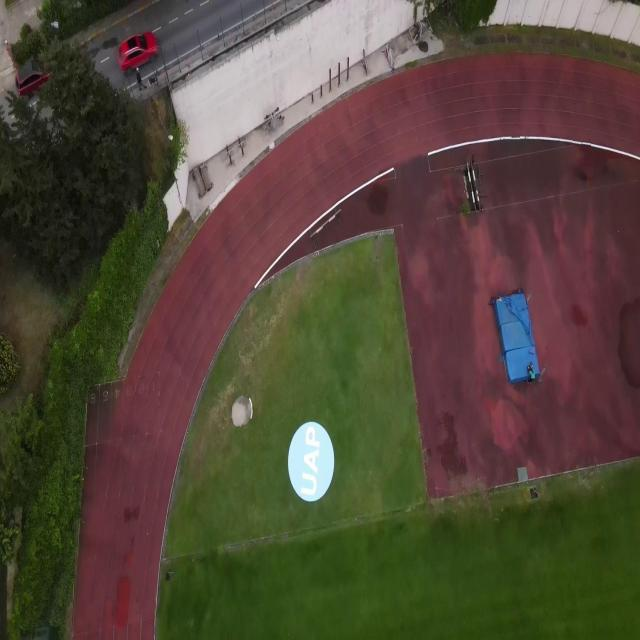p3rson: (135, 66, 147, 90), (526, 361, 536, 385)
